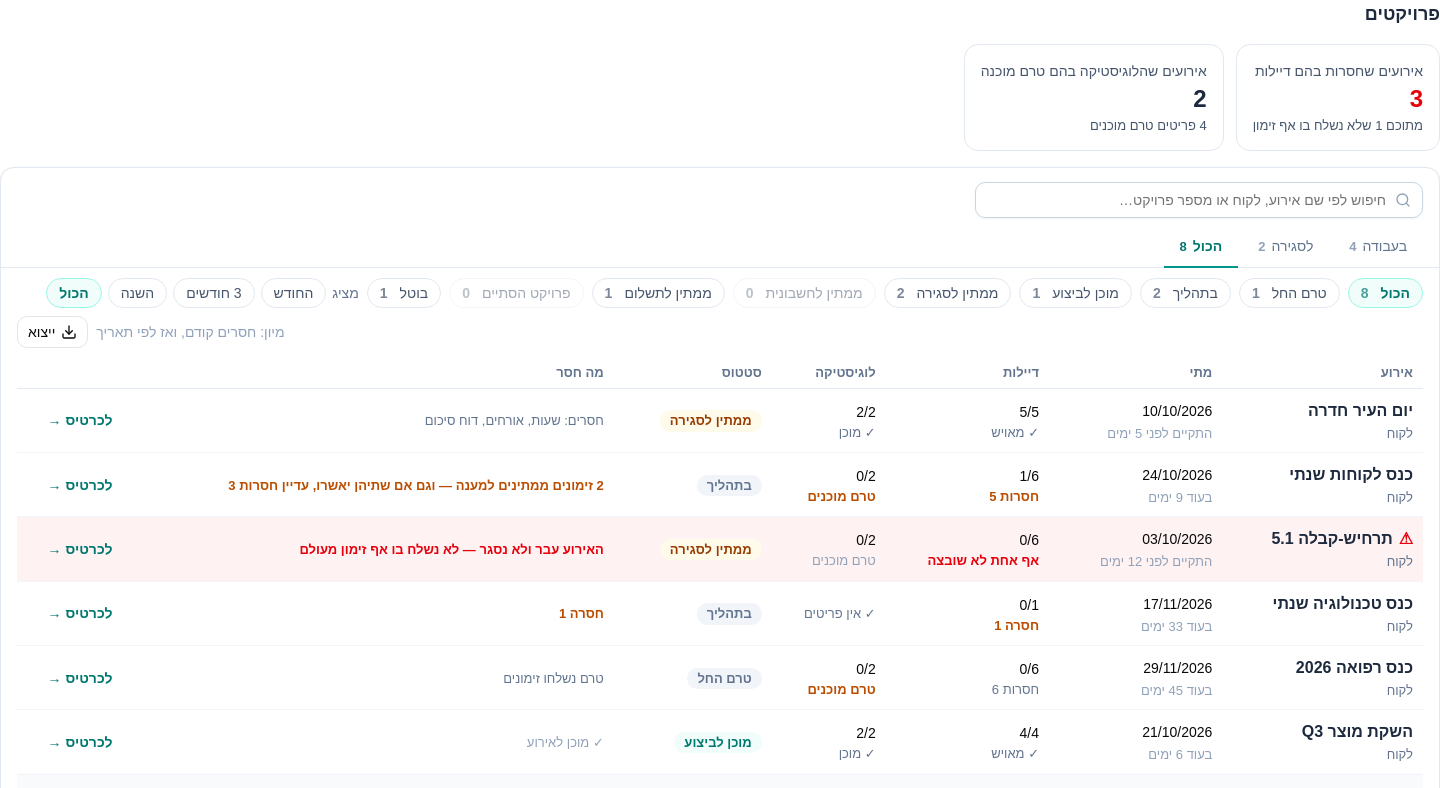
it: ProjectsPage — חיפוש פרויקטים (?q=) › סינון לפי שם אירוע מציג רק את הפרויקט התואם ומאפשר לנקות חיפוש
This screenshot has width=1440, height=788.
Step 1. Type "רפואה" into the field with test id "projects-search-input" → [1199, 200], box [975, 182, 1423, 218]
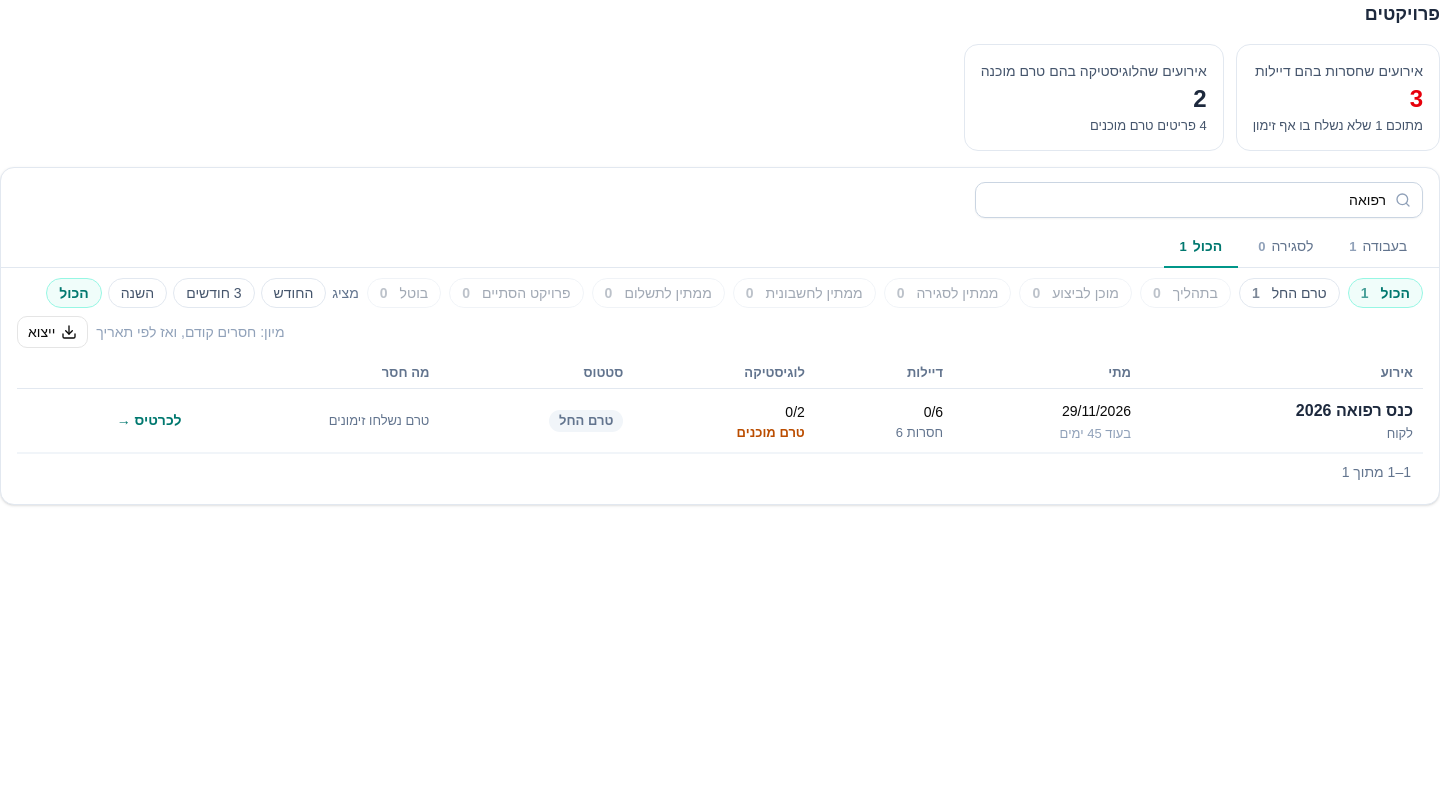
Note: חיפוש שאינו קיים מציג מסך ריק עם כפתור ניקוי
Step 2. Replace the text in the field with test id "projects-search-input" with "אירוע-שלא-קיים-xyz" → [1199, 200], box [975, 182, 1423, 218]
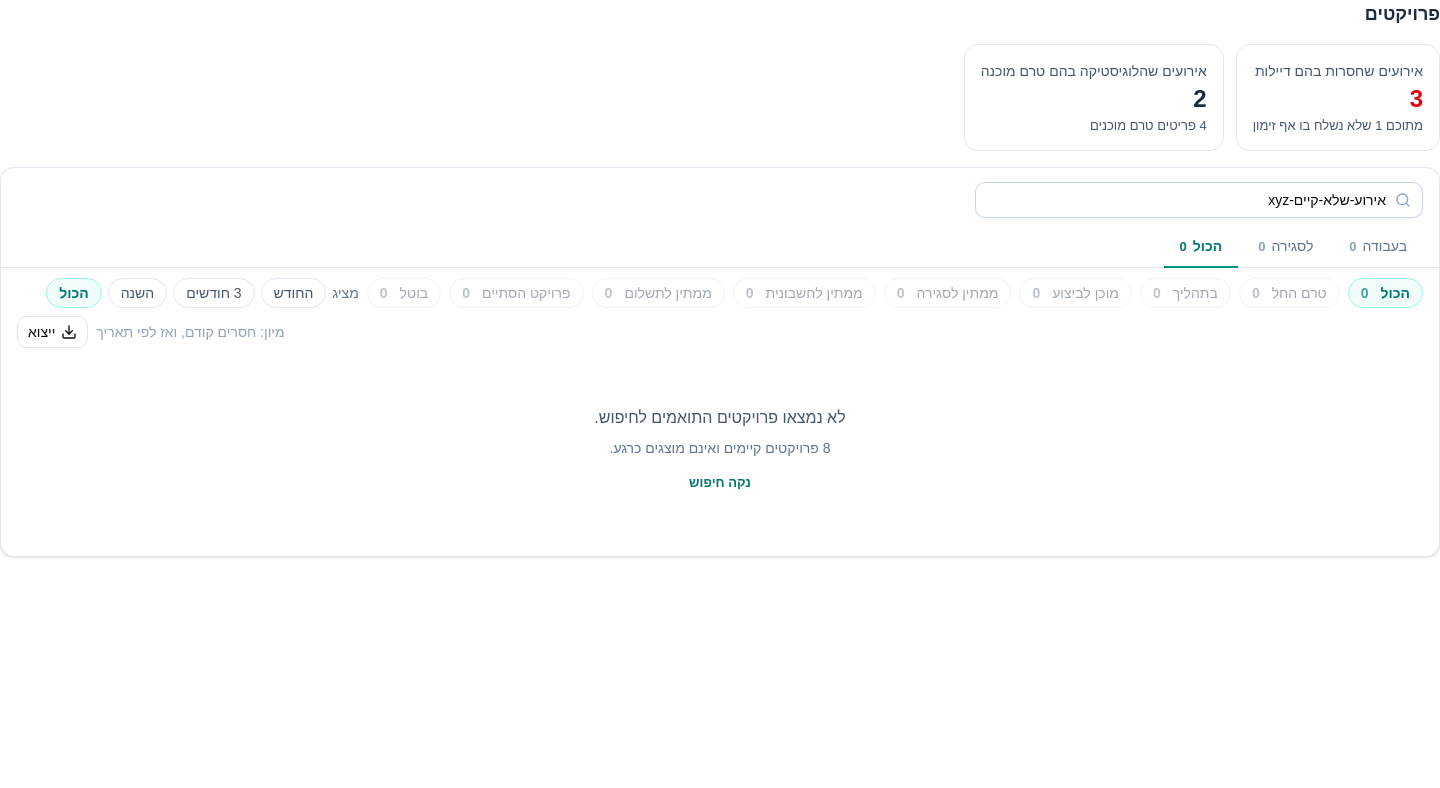
Expected: the element with test id "projects-empty-search" is shown, [594, 409, 846, 493]
Expected: the text "לא נמצאו פרויקטים התואמים לחיפוש." is shown, [594, 406, 846, 430]
Note: לחיצה על נקה חיפוש מחזירה את כל השורות
Step 3. Click the button with test id "projects-clear-search" → [720, 483], box [688, 473, 752, 493]
(page scrolled)
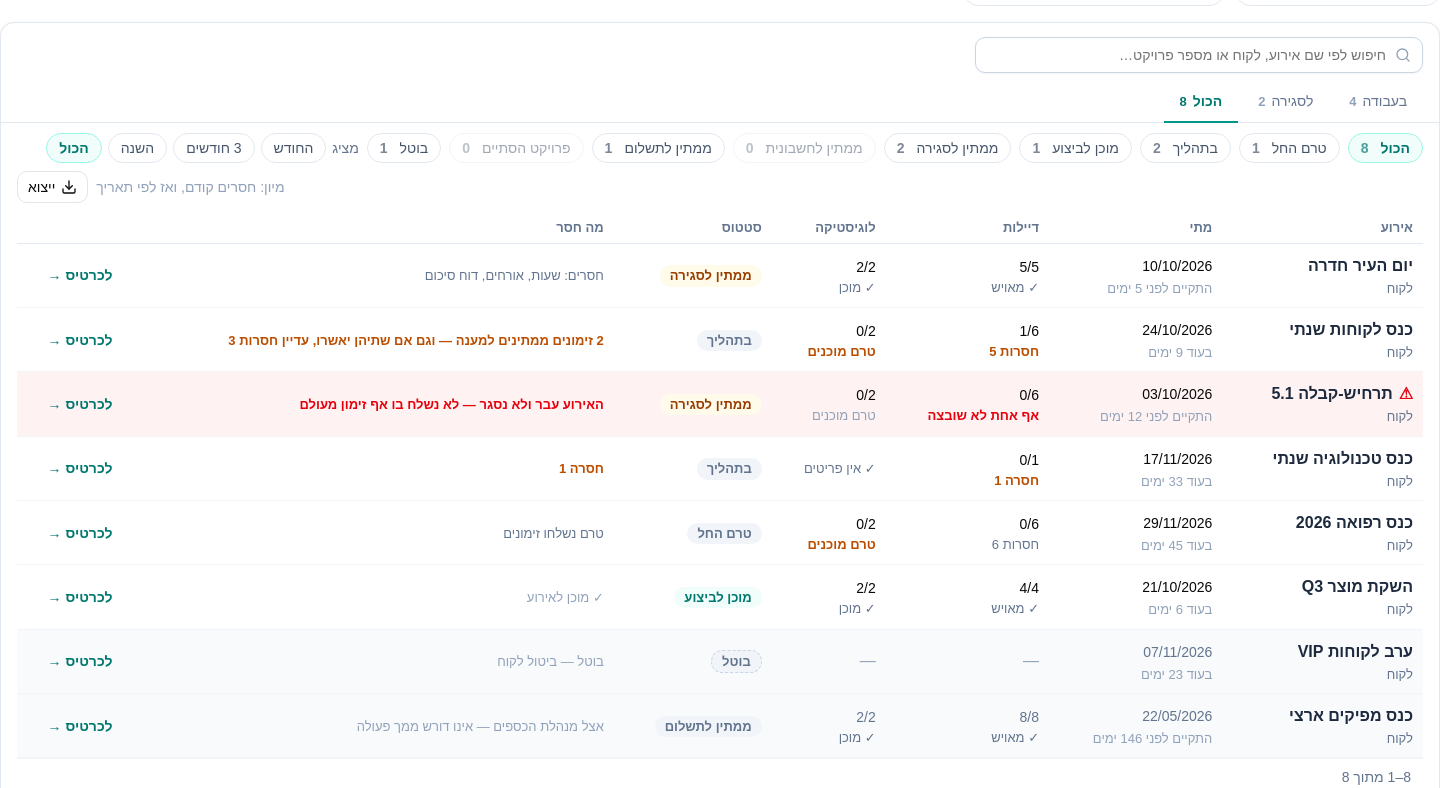
Expected: the table with test id "projects-table" is shown
